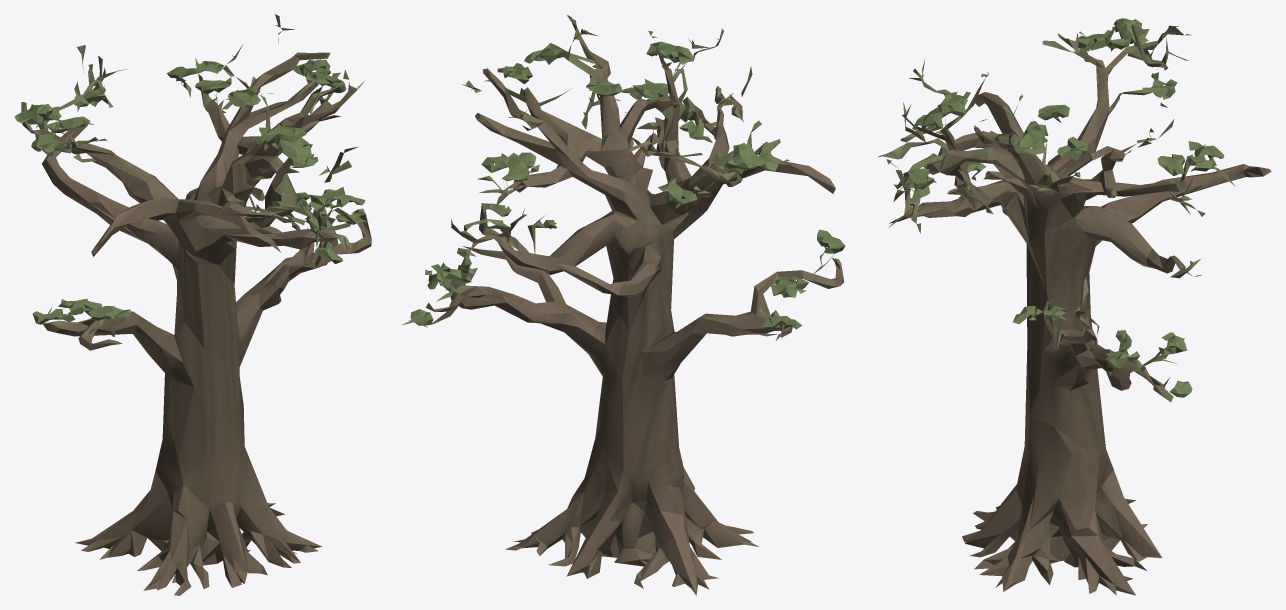
The model's file is baobab.glb.
3 renders of one model, left to right at view 1: azimuth 30°, elevation 25°; view 2: azimuth 150°, elevation 25°; view 3: azimuth 270°, elevation 25°, orthographic. The views are drawn at different scales.
Parts seen in each view (by area): view 1: landmark; view 2: landmark; view 3: landmark.
Part boxes in pixels (x1,y1,x2,y2): landmark: [14, 14, 371, 595]; landmark: [401, 14, 845, 595]; landmark: [878, 18, 1271, 595].
Size of the model in its own units: 1.32 by 1.81 by 1.31.
1 material, 1 textured.
